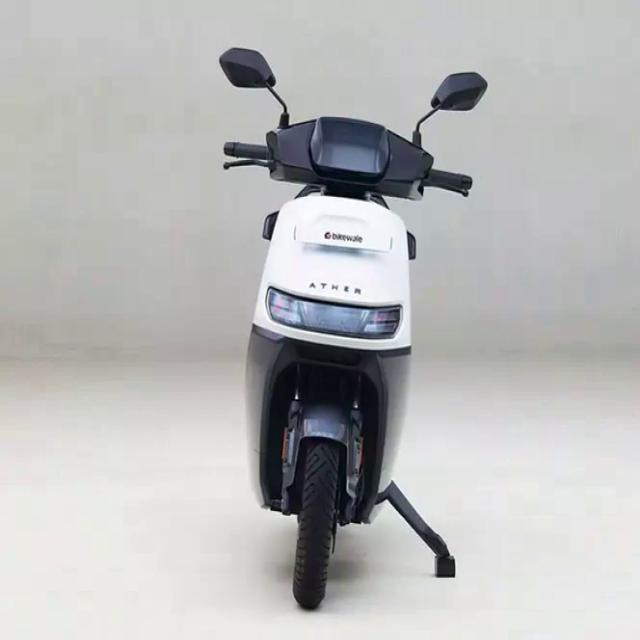objects: (210, 37, 500, 610)
